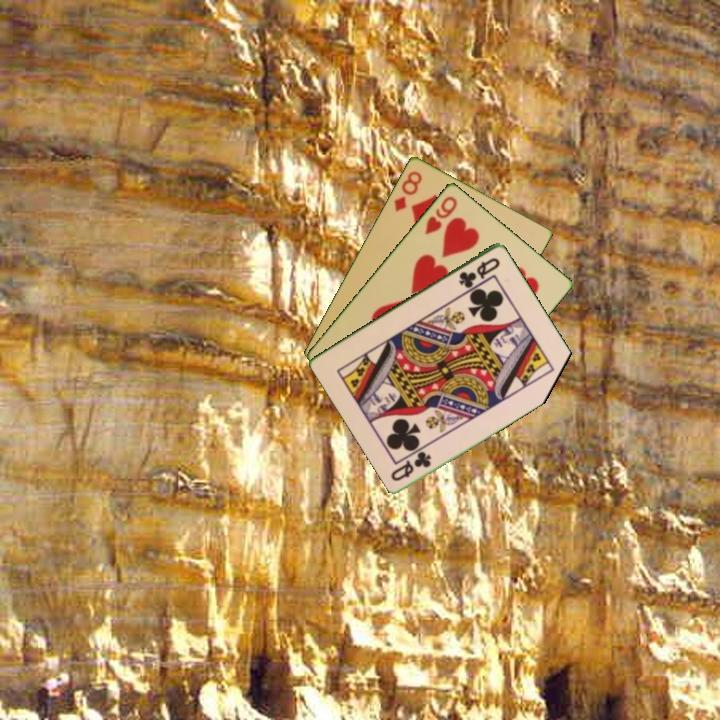8d: (390, 167, 425, 214)
9h: (421, 192, 460, 237)
Qc: (455, 254, 503, 291), (387, 448, 435, 484)
